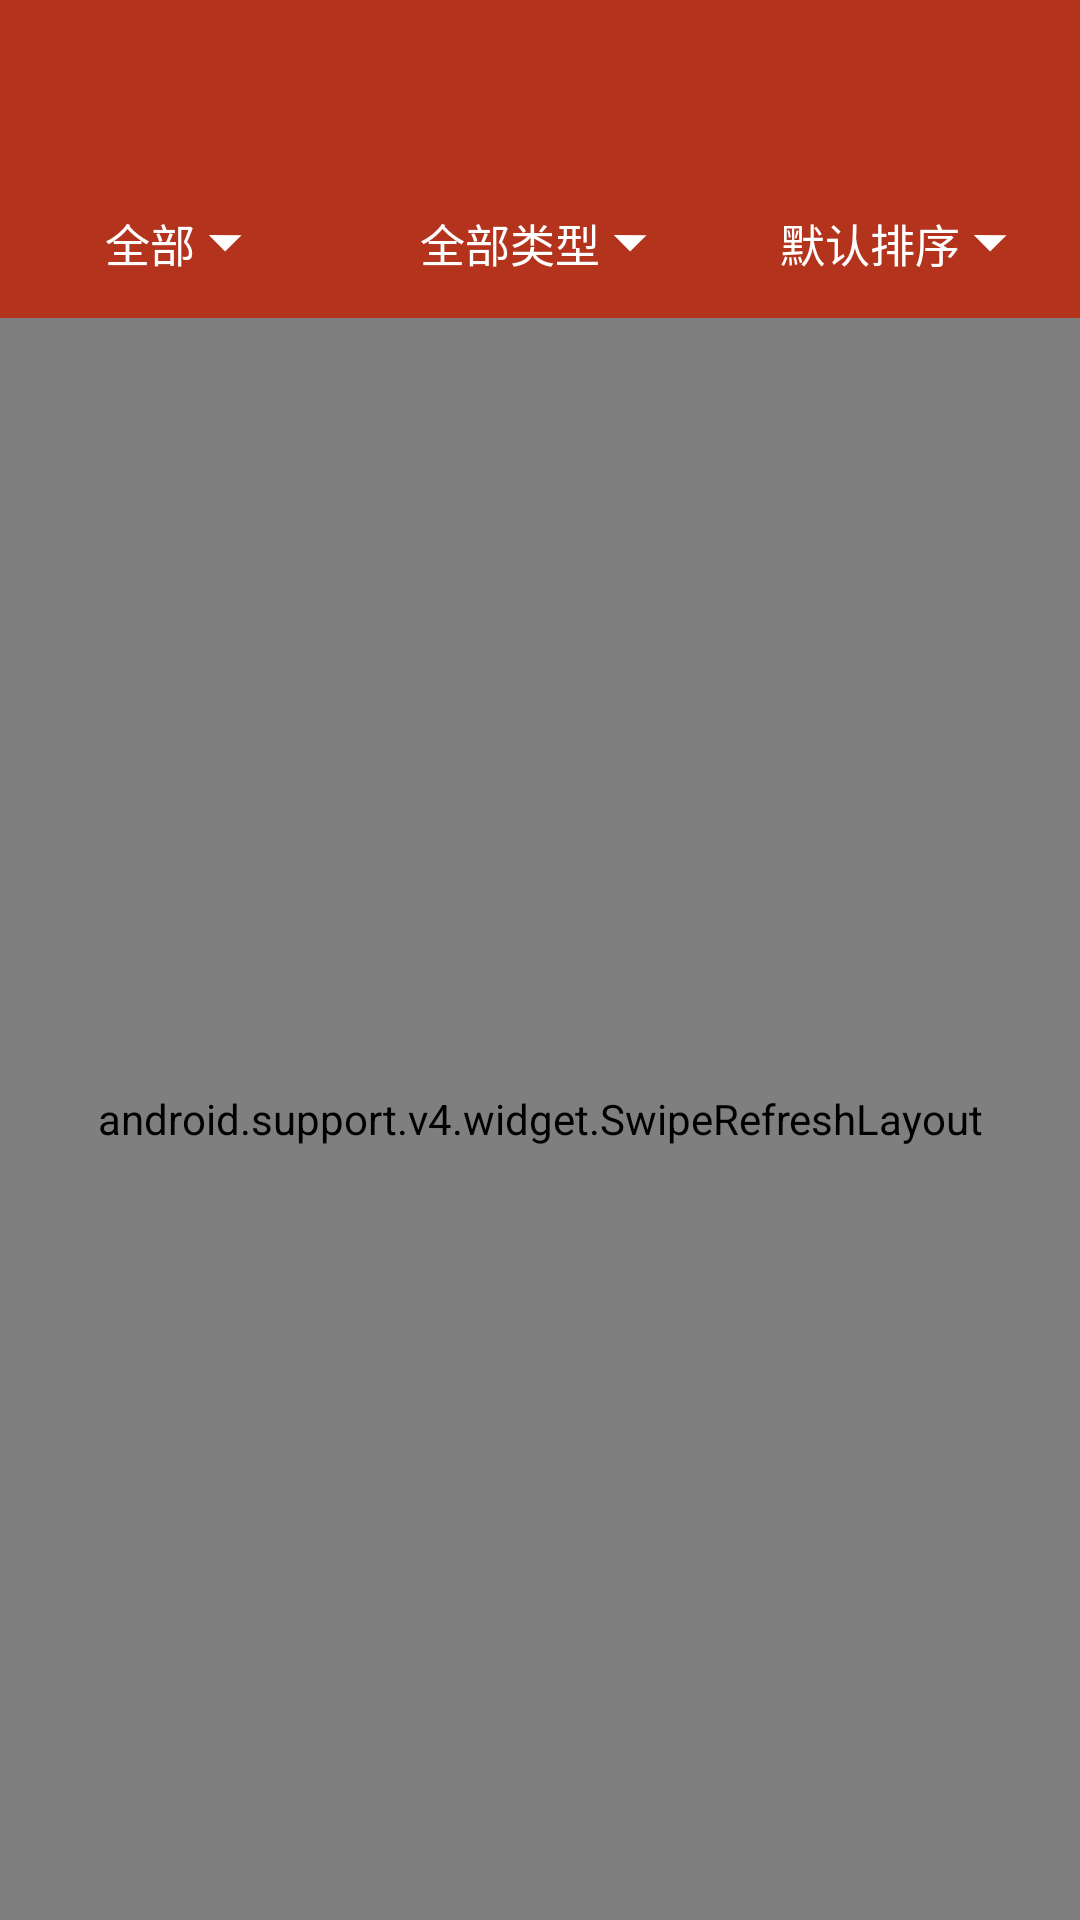

Named icons in this screenshot (1080×1920) and their bounding boxes, box=[x1, y1, x2, y2]:
community top indicator down: box=[209, 235, 242, 252], box=[614, 235, 647, 252], box=[974, 235, 1007, 252]
